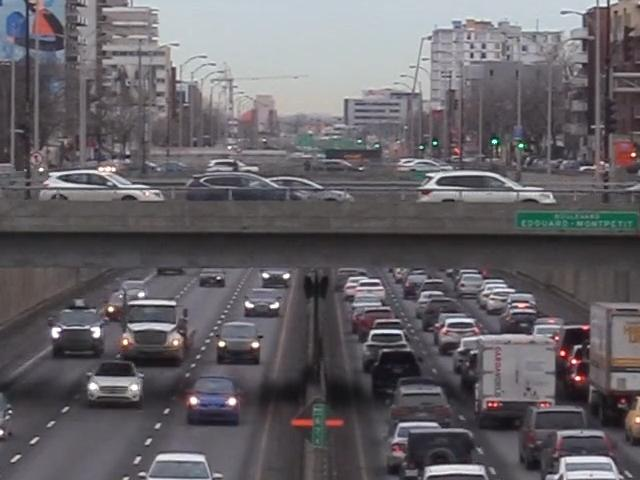car: (121, 290, 197, 362), (520, 406, 599, 470), (541, 428, 613, 480), (403, 431, 474, 480), (187, 373, 245, 426), (85, 361, 149, 409), (46, 307, 107, 357), (389, 386, 453, 433), (141, 447, 223, 480), (389, 422, 443, 471), (362, 328, 417, 368), (371, 352, 423, 392), (217, 320, 264, 364), (240, 285, 285, 320), (412, 463, 499, 480), (389, 374, 440, 398), (461, 347, 487, 384), (624, 394, 640, 444), (452, 336, 475, 367), (0, 391, 14, 441)
truck: (472, 331, 562, 430), (586, 299, 640, 411)
